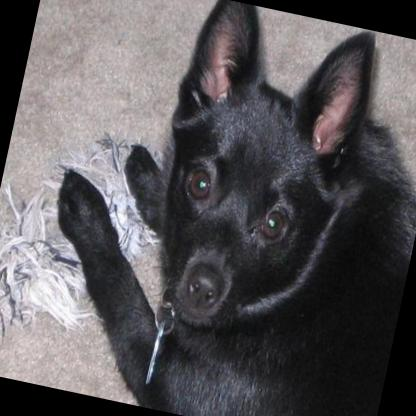schipperke: (17, 0, 416, 416)
